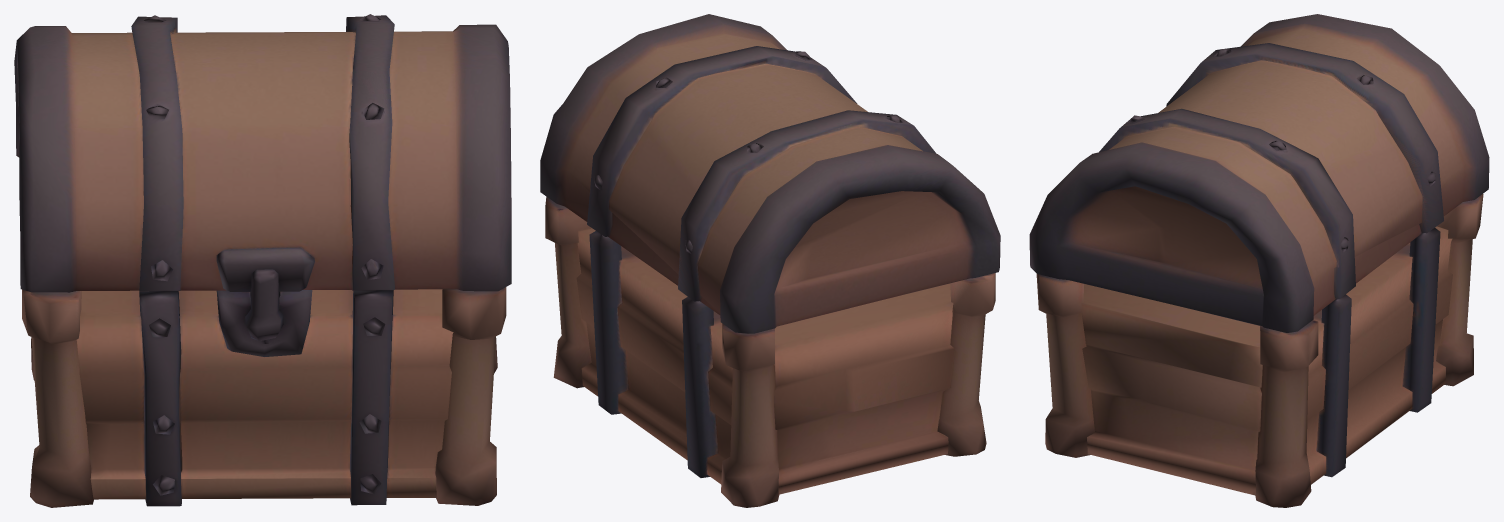
File: treasure-chest.glb
The picture shows the model from 3 angles, left to right: view 1: azimuth 30°, elevation 25°; view 2: azimuth 150°, elevation 25°; view 3: azimuth 270°, elevation 25°; orthographic projection. The views are drawn at different scales.
Parts seen in each view (by area): view 1: tripo_node_9407ba16-7032-4a26-a22e-2de77605cf79; view 2: tripo_node_9407ba16-7032-4a26-a22e-2de77605cf79; view 3: tripo_node_9407ba16-7032-4a26-a22e-2de77605cf79.
Boxes of the visible parts, x1,y1,x2,y2 form: tripo_node_9407ba16-7032-4a26-a22e-2de77605cf79: (14,14,511,507); tripo_node_9407ba16-7032-4a26-a22e-2de77605cf79: (540,14,1000,507); tripo_node_9407ba16-7032-4a26-a22e-2de77605cf79: (1029,14,1489,507).
Bounding box in the file's own units: 1.21 × 0.8613 × 1.12.
Materials: 1 (1 with a texture image).
